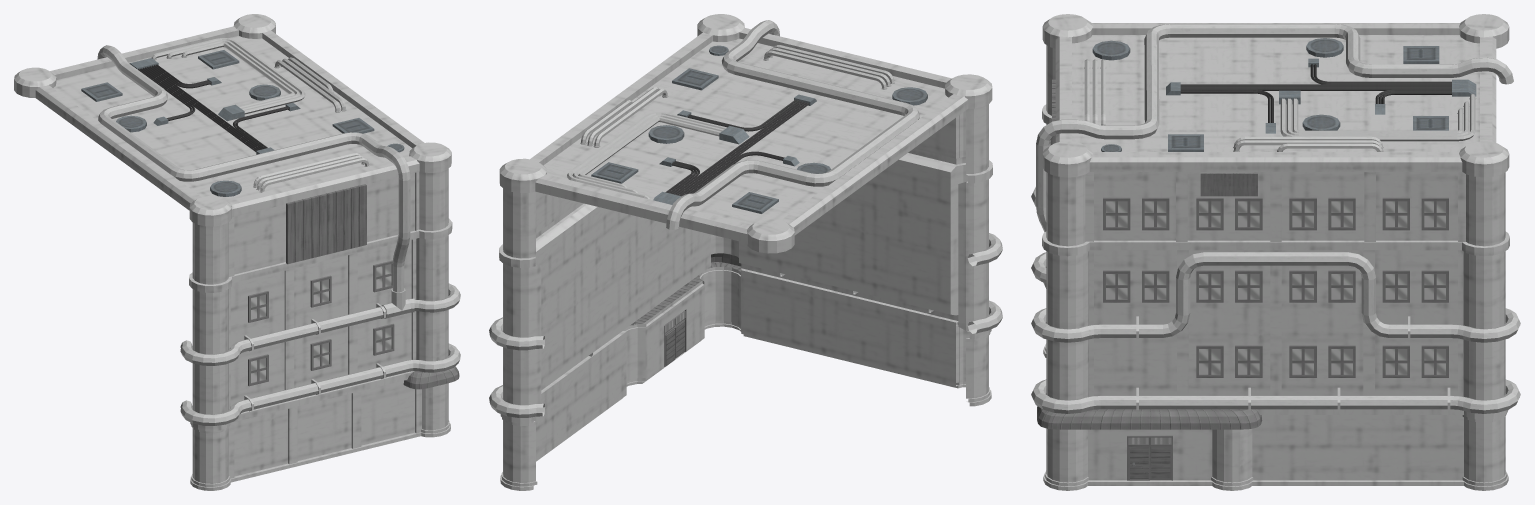
Rendered from REDUCTION_SM_ENV_KNVLLG_CommonBuilding_F_2.mo.fbx.
The picture shows the model from 3 angles, left to right: view 1: azimuth 30°, elevation 25°; view 2: azimuth 150°, elevation 25°; view 3: azimuth 270°, elevation 25°; orthographic projection. The views are drawn at different scales.
Visible parts, largest first — view 1: REDUCTION_SM_ENV_KNVLLG_CommonBuilding_F_2.mo; view 2: REDUCTION_SM_ENV_KNVLLG_CommonBuilding_F_2.mo; view 3: REDUCTION_SM_ENV_KNVLLG_CommonBuilding_F_2.mo.
Boxes of the visible parts, x1,y1,x2,y2 form: REDUCTION_SM_ENV_KNVLLG_CommonBuilding_F_2.mo: (14,14,460,490); REDUCTION_SM_ENV_KNVLLG_CommonBuilding_F_2.mo: (489,14,1002,490); REDUCTION_SM_ENV_KNVLLG_CommonBuilding_F_2.mo: (1031,14,1520,490).
Bounding box in the file's own units: 25.89 × 26.03 × 33.95.
